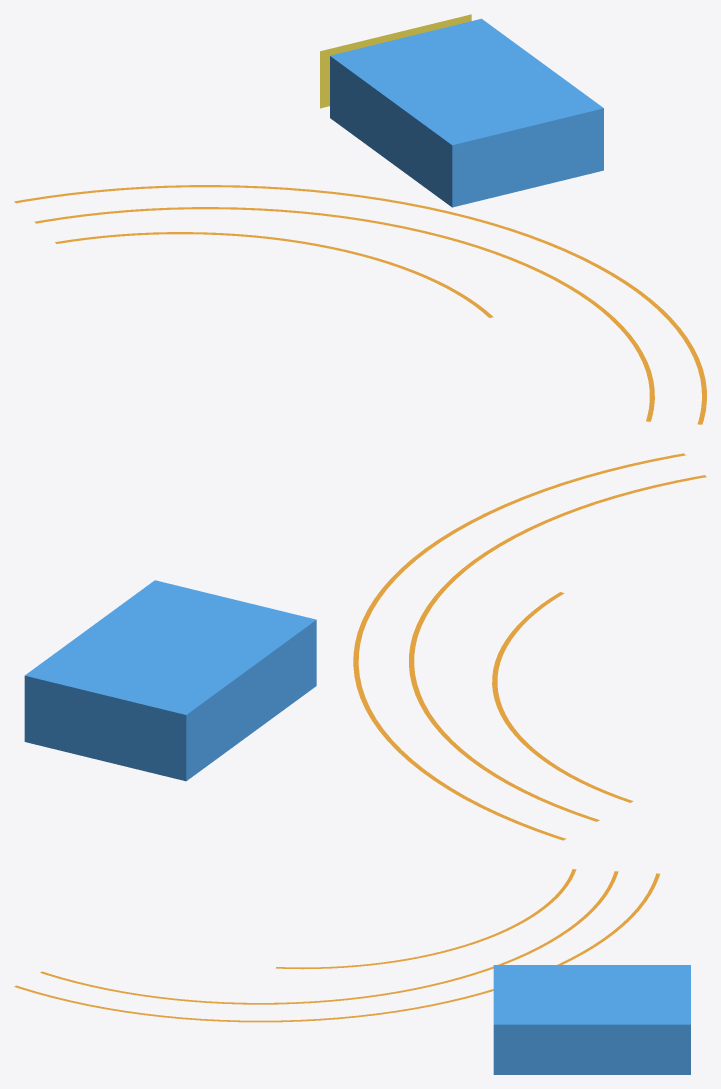
Rendered from technical_reference.glb.
The picture shows the model from 3 angles, top to bottom: view 1: azimuth 30°, elevation 25°; view 2: azimuth 150°, elevation 25°; view 3: azimuth 270°, elevation 25°; orthographic projection. The views are drawn at different scales.
Parts seen in each view (by area): view 1: TECH_Z21_vano, TECH_hidden_track_axes, TECH_Z21_accesso_posteriore; view 2: TECH_Z21_vano, TECH_hidden_track_axes; view 3: TECH_Z21_vano, TECH_hidden_track_axes.
Boxes of the visible parts, bbox=[...] form: TECH_Z21_vano: bbox=[330, 18, 603, 207]; TECH_hidden_track_axes: bbox=[14, 185, 706, 424]; TECH_Z21_accesso_posteriore: bbox=[320, 14, 471, 108]; TECH_Z21_vano: bbox=[24, 580, 316, 781]; TECH_hidden_track_axes: bbox=[353, 453, 706, 840]; TECH_Z21_vano: bbox=[493, 965, 690, 1074]; TECH_hidden_track_axes: bbox=[14, 869, 659, 1022].
Size of the model in its own units: 0.3645 by 0.0435 by 0.5444.
